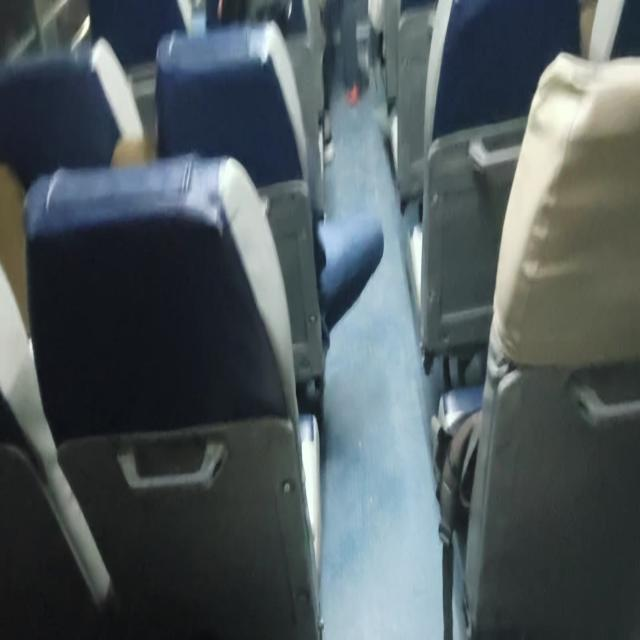person: (1, 1, 638, 637), (21, 151, 324, 634), (435, 48, 639, 638), (206, 0, 330, 221)
